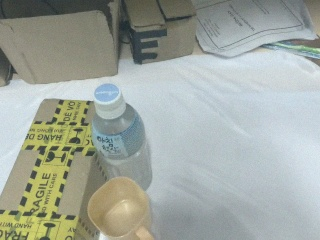bottle: (91, 83, 153, 192)
box: (1, 100, 104, 240), (1, 1, 119, 83), (119, 1, 197, 64)
cup: (86, 177, 156, 240)
